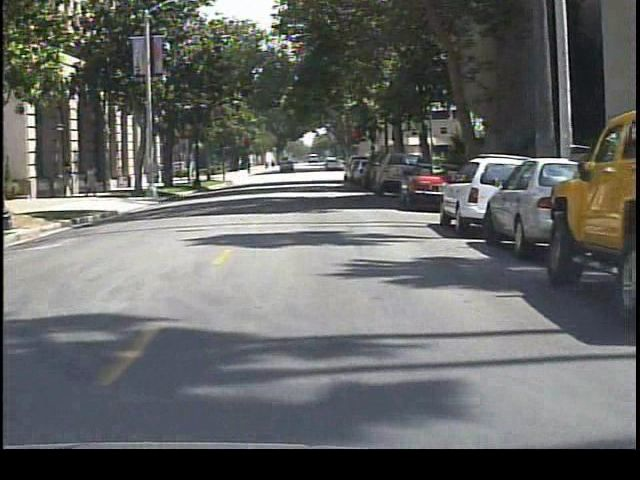person: (59, 157, 80, 198), (84, 160, 106, 199)
